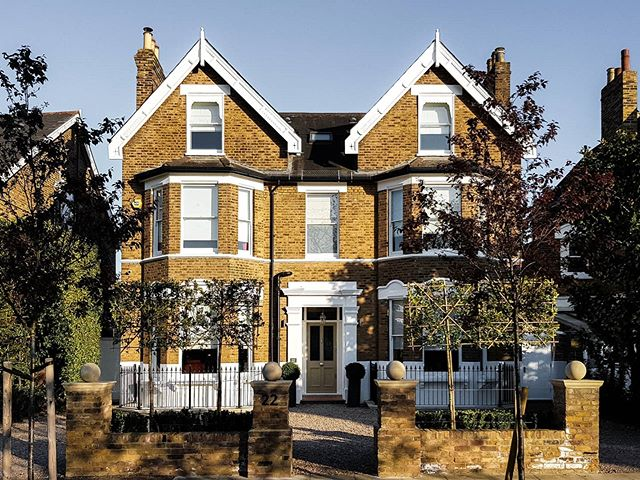building: (121, 40, 507, 404)
sky: (35, 1, 620, 98)
tree: (417, 61, 562, 473), (1, 48, 122, 480), (559, 112, 640, 414)
